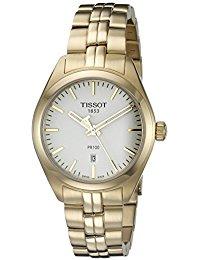clock: (31, 67, 158, 194)
